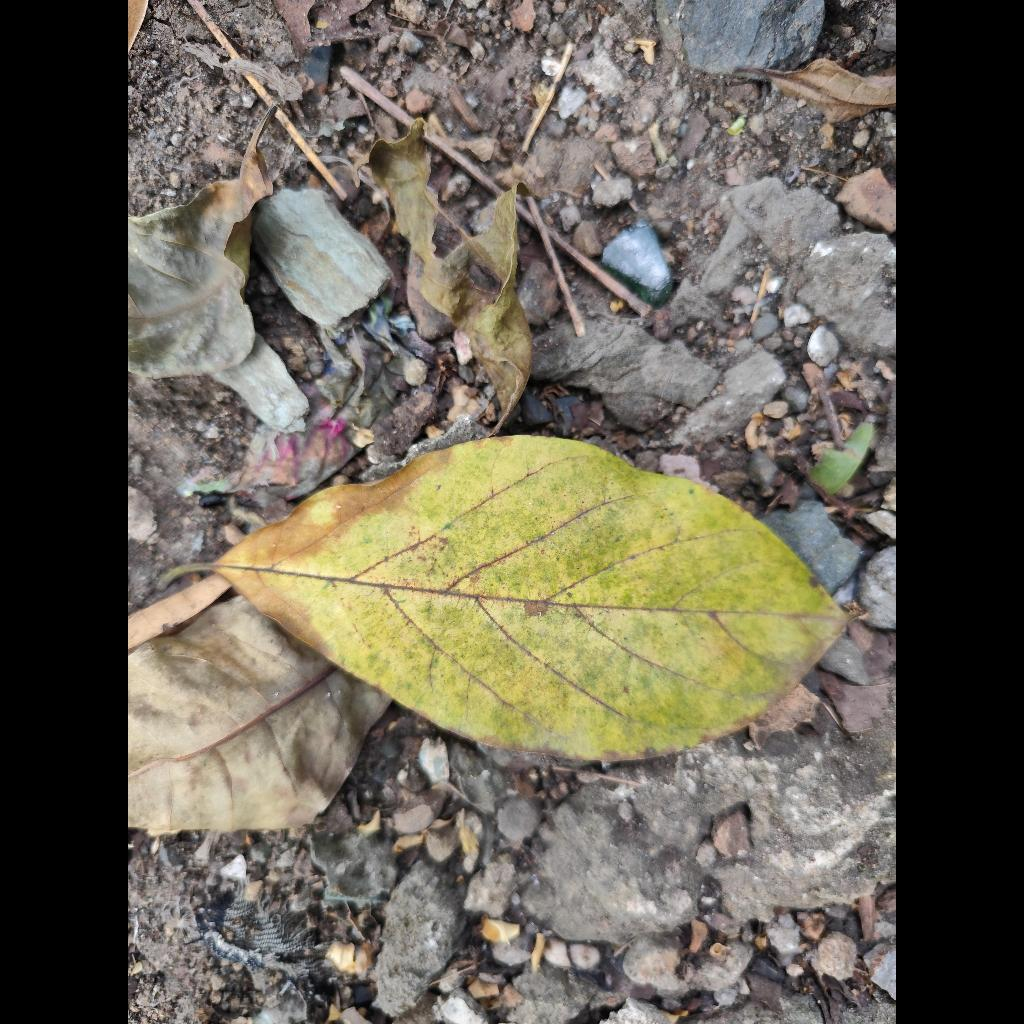deficiencia_nutricional: (216, 435, 845, 760)
